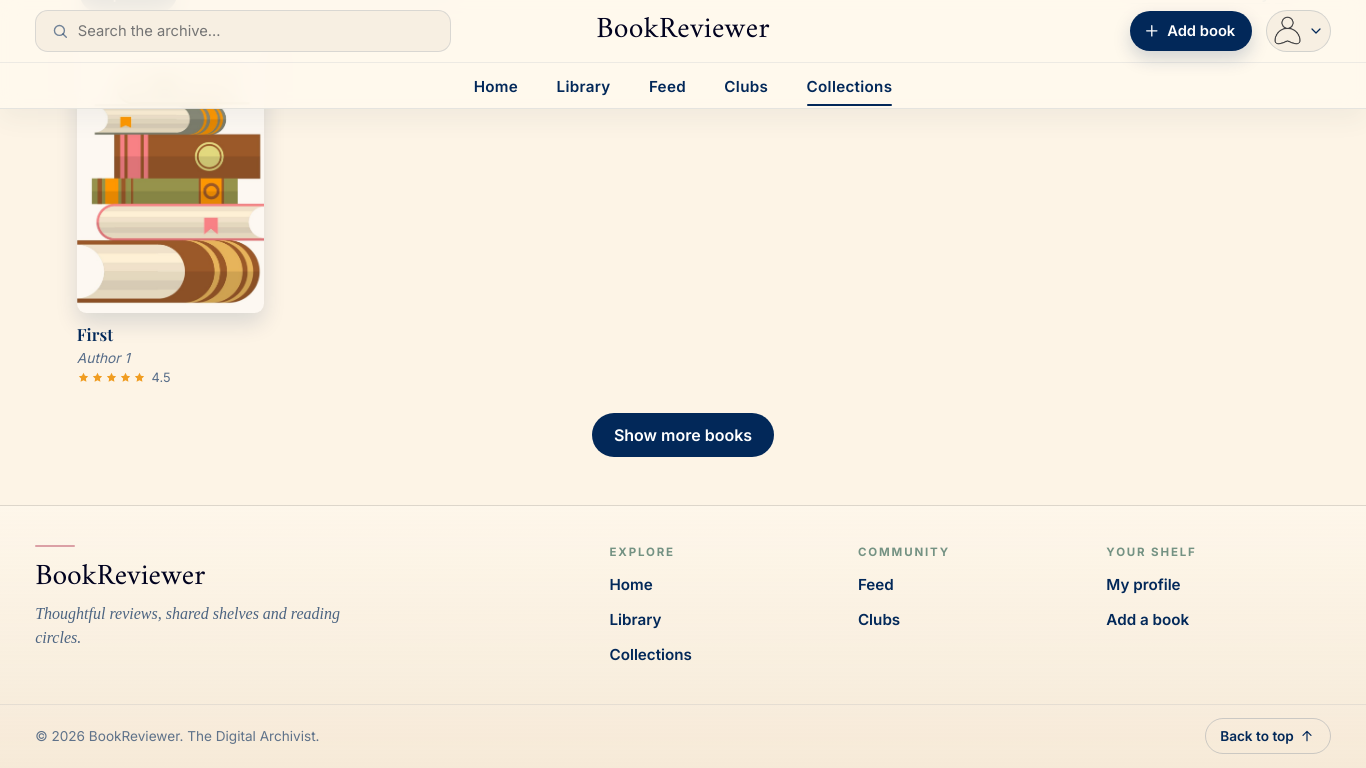
Scenario: CollectionPage › loads more books onto the end of the list until the last page
(page scrolled)
Click the button "Show more books".
click(683, 435)  # box [592, 413, 774, 457]
(page scrolled)
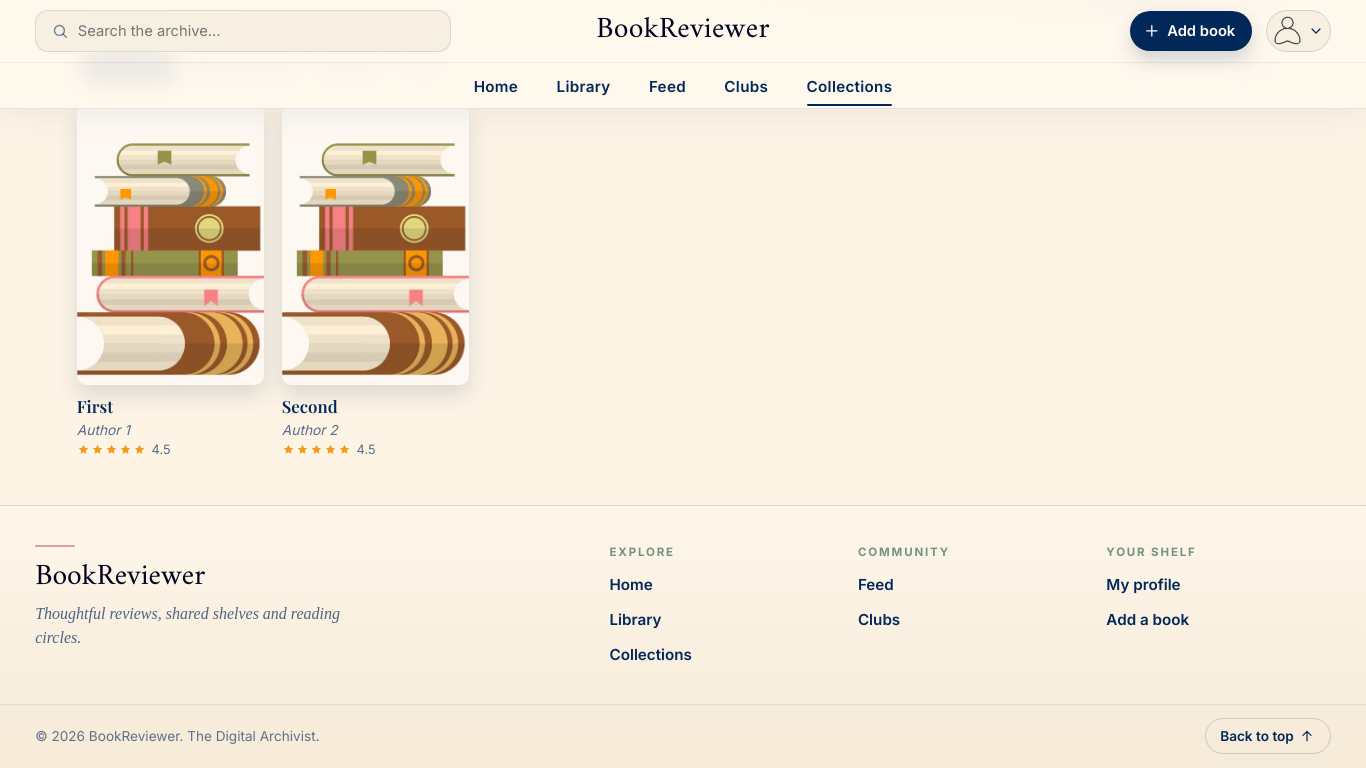
Result: the link "Second Author 2 4.5" is shown at [282, 104, 469, 457]
Result: the button "Show more books" is gone
